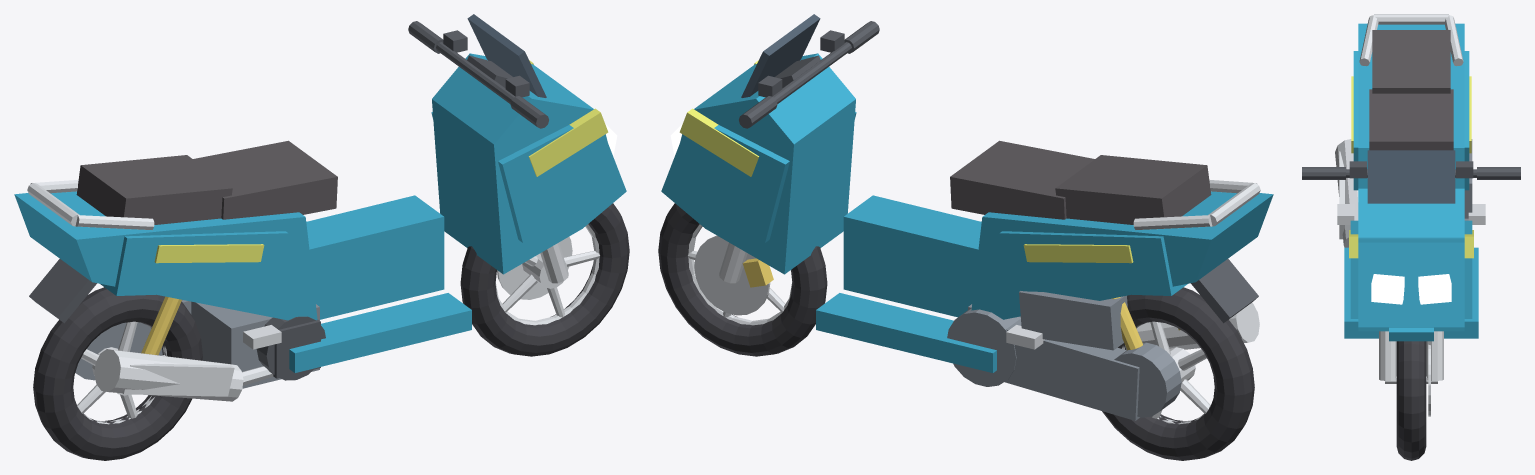
Rendered from yamaha-aerox-155.glb.
3 views of the same model, side by side, from view 1: azimuth 30°, elevation 25°; view 2: azimuth 150°, elevation 25°; view 3: azimuth 270°, elevation 25° (orthographic). The views are drawn at different scales.
Parts seen in each view (by area): view 1: Bodi_Utama, Roda_Ban, Jok_Motor, Cover_Knalpot, Aksen_Bodi, Velg_Roda, Mesin_Blok, Master_Rem_Stang, Cover_Radiator, Spakbor_Belakang, Behel_Jok, Windshield_Visor (+5 smaller); view 2: Bodi_Utama, Roda_Ban, Cover_CVT, Jok_Motor, Aksen_Bodi, Master_Rem_Stang, Piringan_Depan, Velg_Roda, Spakbor_Belakang, Behel_Jok, Windshield_Visor, Cover_Knalpot (+4 smaller); view 3: Bodi_Utama, Jok_Motor, Windshield_Visor, Roda_Ban, Lampu_Depan, Master_Rem_Stang, Behel_Jok, Suspensi_Depan, Cover_Knalpot, Aksen_Bodi, Footstep_Belakang, Spakbor_Depan (+1 smaller).
Boxes of the visible parts, left/top/right/bottom form: Bodi_Utama: left=14, top=53, right=626, bottom=372; Roda_Ban: left=33, top=203, right=629, bottom=460; Jok_Motor: left=76, top=140, right=337, bottom=224; Cover_Knalpot: left=94, top=349, right=273, bottom=401; Aksen_Bodi: left=154, top=60, right=608, bottom=263; Velg_Roda: left=77, top=224, right=599, bottom=424; Mesin_Blok: left=191, top=301, right=319, bottom=388; Master_Rem_Stang: left=408, top=21, right=548, bottom=128; Cover_Radiator: left=256, top=316, right=325, bottom=380; Spakbor_Belakang: left=29, top=259, right=96, bottom=323; Behel_Jok: left=27, top=180, right=154, bottom=230; Windshield_Visor: left=467, top=14, right=546, bottom=97; Bodi_Utama: left=661, top=53, right=1273, bottom=372; Roda_Ban: left=658, top=203, right=1254, bottom=460; Cover_CVT: left=947, top=291, right=1181, bottom=420; Jok_Motor: left=950, top=140, right=1211, bottom=224; Aksen_Bodi: left=679, top=60, right=1133, bottom=263; Master_Rem_Stang: left=739, top=21, right=879, bottom=128; Piringan_Depan: left=694, top=235, right=770, bottom=315; Velg_Roda: left=688, top=224, right=1210, bottom=424; Spakbor_Belakang: left=1191, top=259, right=1258, bottom=323; Behel_Jok: left=1133, top=180, right=1260, bottom=230; Windshield_Visor: left=741, top=14, right=820, bottom=97; Cover_Knalpot: left=1126, top=303, right=1259, bottom=350; Bodi_Utama: left=1344, top=23, right=1478, bottom=338; Jok_Motor: left=1369, top=30, right=1453, bottom=150; Windshield_Visor: left=1367, top=150, right=1455, bottom=203; Roda_Ban: left=1396, top=341, right=1426, bottom=460; Lampu_Depan: left=1371, top=274, right=1451, bottom=304; Master_Rem_Stang: left=1302, top=161, right=1520, bottom=179; Behel_Jok: left=1359, top=14, right=1463, bottom=66; Suspensi_Depan: left=1379, top=331, right=1443, bottom=383; Cover_Knalpot: left=1335, top=139, right=1358, bottom=247; Aksen_Bodi: left=1349, top=76, right=1473, bottom=258; Footstep_Belakang: left=1337, top=204, right=1485, bottom=224; Spakbor_Depan: left=1389, top=327, right=1433, bottom=341.
Size of the model in its own units: 1.87 by 1 by 0.7.
